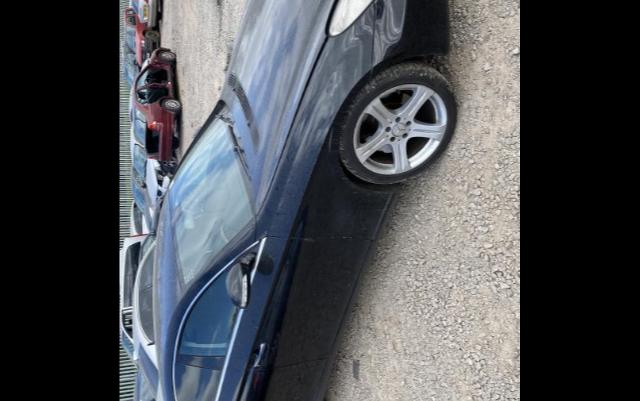Broken part: (274, 36, 332, 182), (324, 0, 339, 36)
Scratch: (302, 236, 316, 241)
